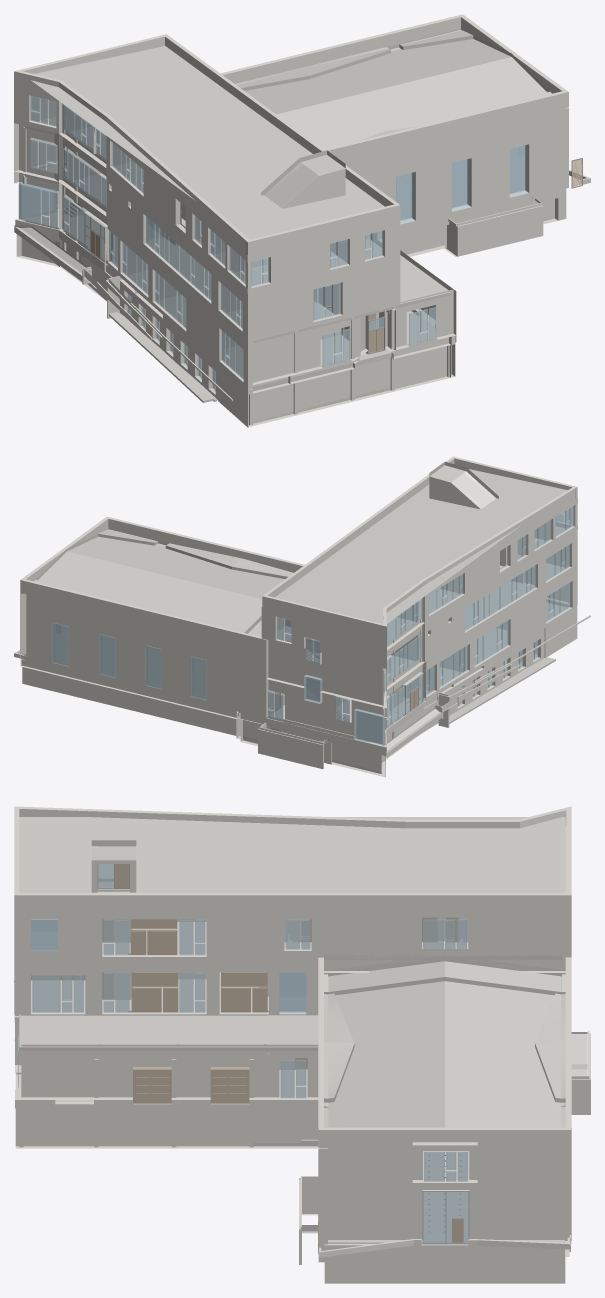
3 views of the same model, one above another, from view 1: azimuth 30°, elevation 25°; view 2: azimuth 150°, elevation 25°; view 3: azimuth 270°, elevation 25° (orthographic). The views are drawn at different scales.
Visible parts, largest first — view 1: wall, slab, glazing, door, stair; view 2: wall, slab, glazing, stair, door; view 3: wall, slab, glazing, door, stair.
Boxes of the visible parts, x1,y1,x2,y2 form: wall: (14,14,590,427); slab: (25,29,554,423); glazing: (18,96,529,391); door: (90,158,582,353); stair: (14,159,540,275); wall: (14,456,590,777); slab: (34,461,567,773); glazing: (52,506,573,746); stair: (287,637,442,752); door: (269,573,523,731); wall: (14,806,590,1283); slab: (19,817,565,1243); glazing: (18,864,468,1243); door: (31,864,463,1253); stair: (98,879,587,1233).
Size of the model in its own units: 51.8 by 22.64 by 44.58.
